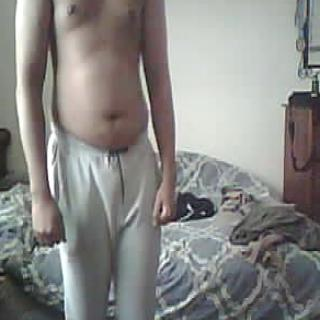White Sweatpants: (42, 129, 171, 320)
